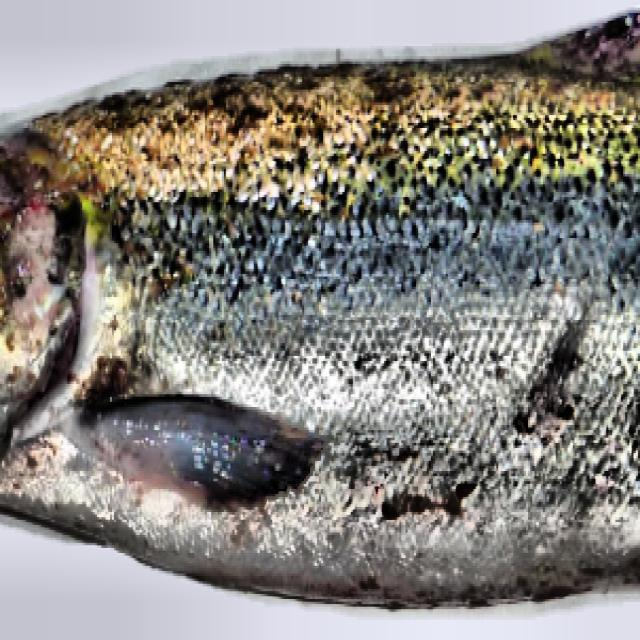mild_red: (337, 435, 512, 527), (499, 330, 592, 458), (301, 525, 417, 599), (80, 348, 133, 397)
